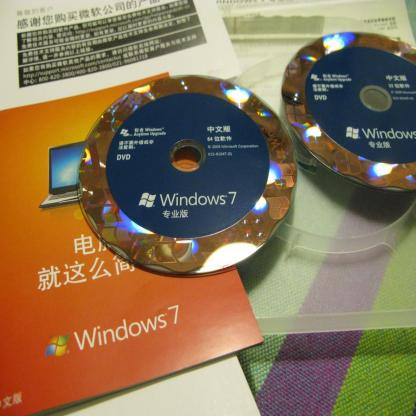board: (38, 140, 85, 207)
